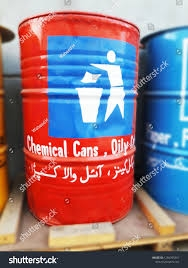metal: (12, 7, 150, 231)
